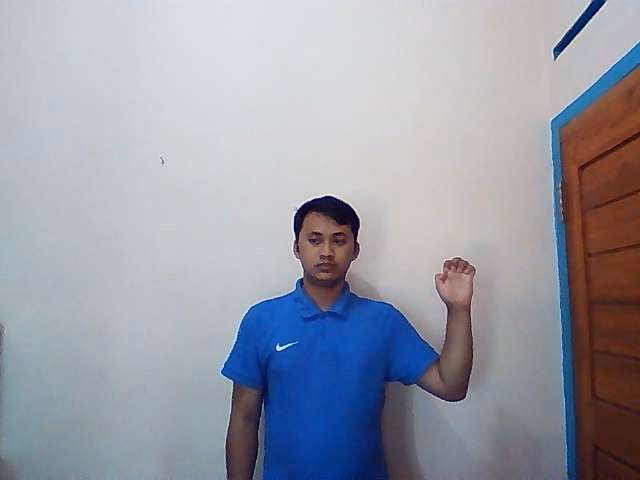E: (433, 257, 477, 307)
